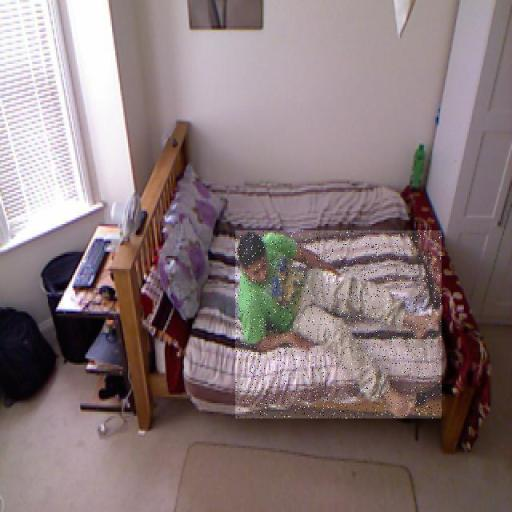Fall: (235, 231, 442, 419)
